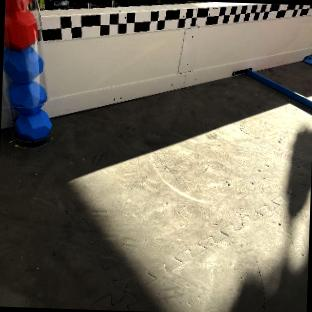Loader: (2, 0, 52, 142)
V5_RED: (4, 0, 37, 49)
